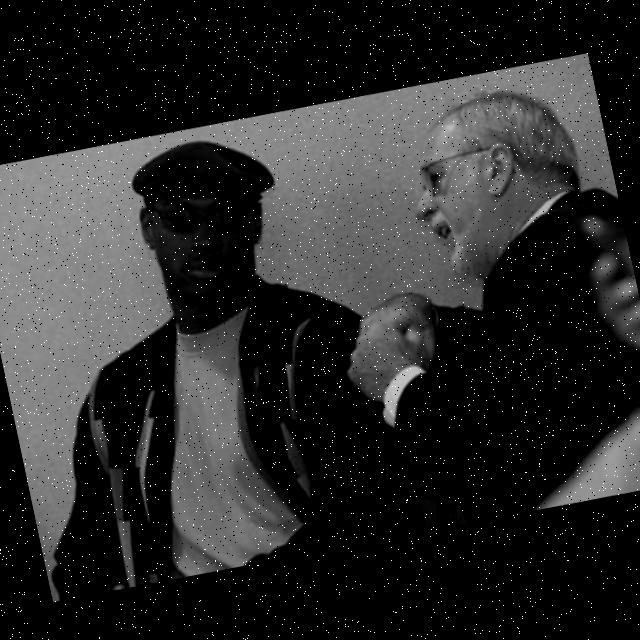face: (378, 89, 577, 297), (141, 173, 269, 309)
